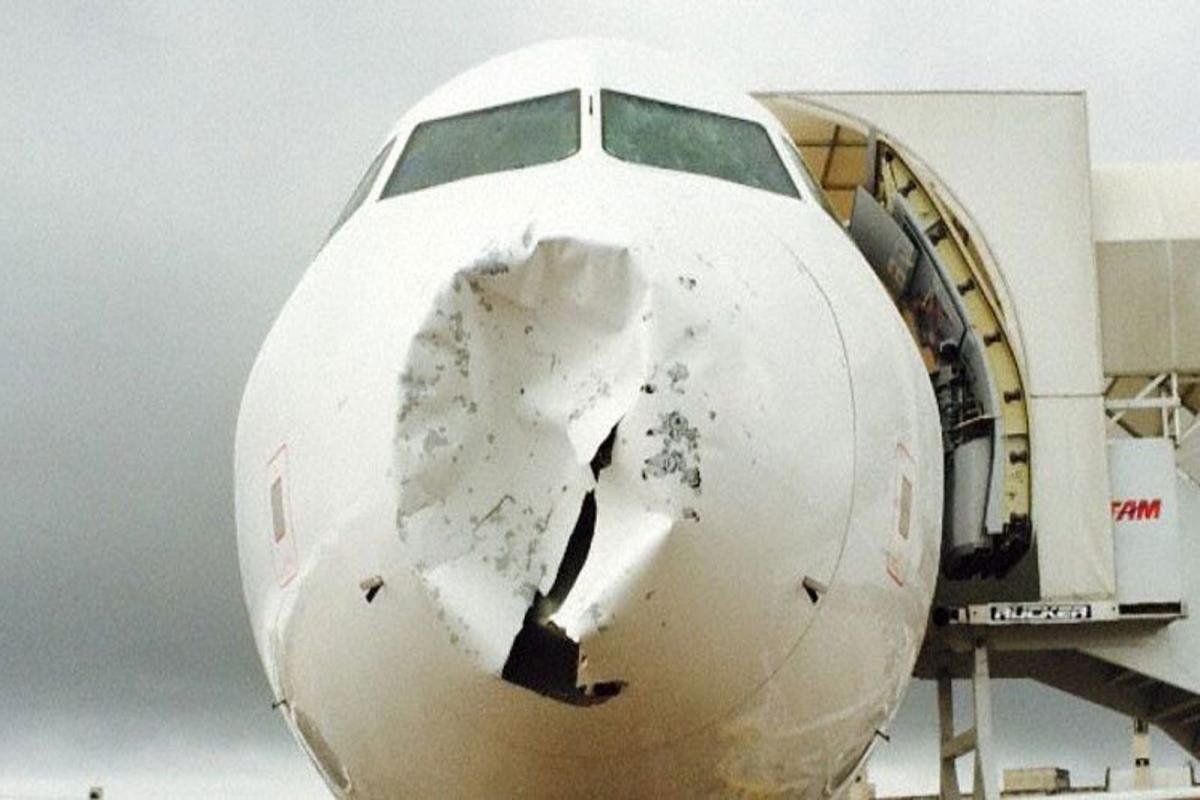Fuselage_damage: (374, 211, 757, 723)
